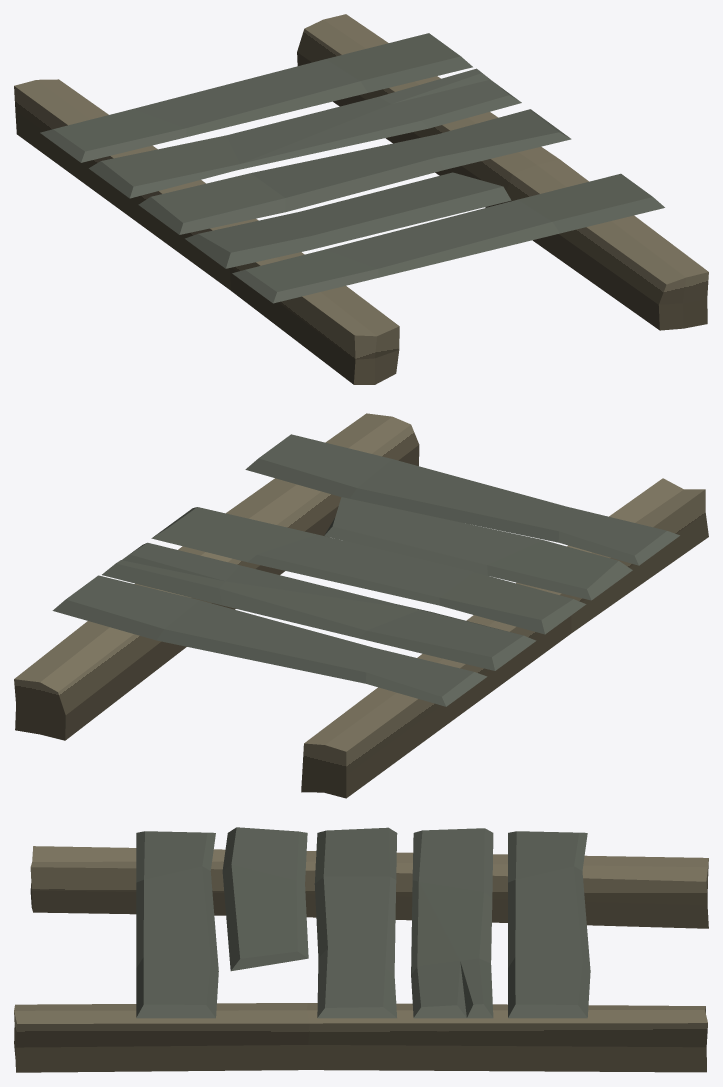
File: HalfBridge.fbx
3 renders of one model, top to bottom at view 1: azimuth 30°, elevation 25°; view 2: azimuth 150°, elevation 25°; view 3: azimuth 270°, elevation 25°, orthographic. The views are drawn at different scales.
Visible parts, largest first — view 1: HalfBridge; view 2: HalfBridge; view 3: HalfBridge.
Part boxes in pixels (x1,y1,x2,y2): HalfBridge: (14, 14, 708, 384); HalfBridge: (14, 413, 708, 798); HalfBridge: (14, 827, 708, 1072).
Bounding box in the file's own units: 78.86 × 15.07 × 125.
Materials: 1 (1 with a texture image).
